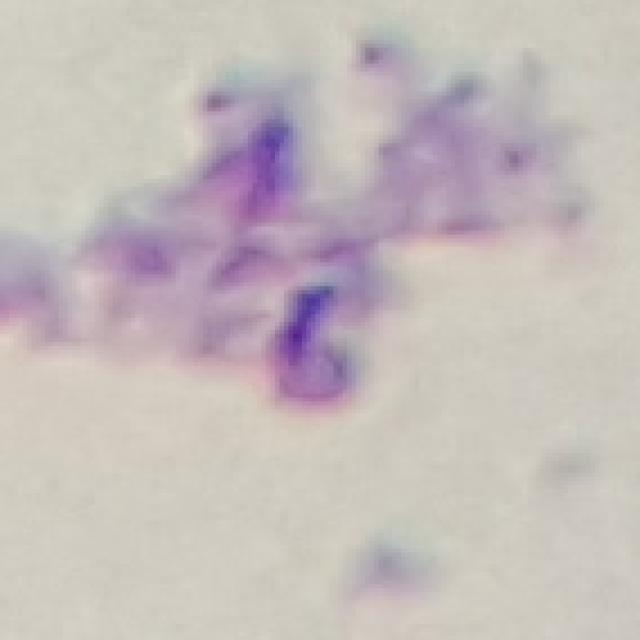non-sperm: (116, 108, 365, 404)
